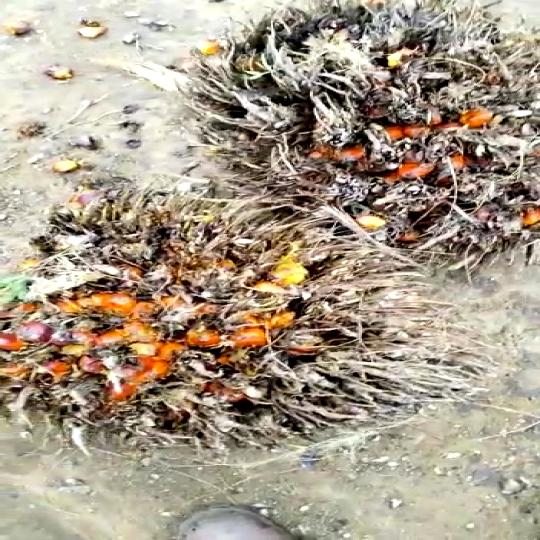terlalu masak: (0, 181, 454, 446), (192, 0, 540, 263)
